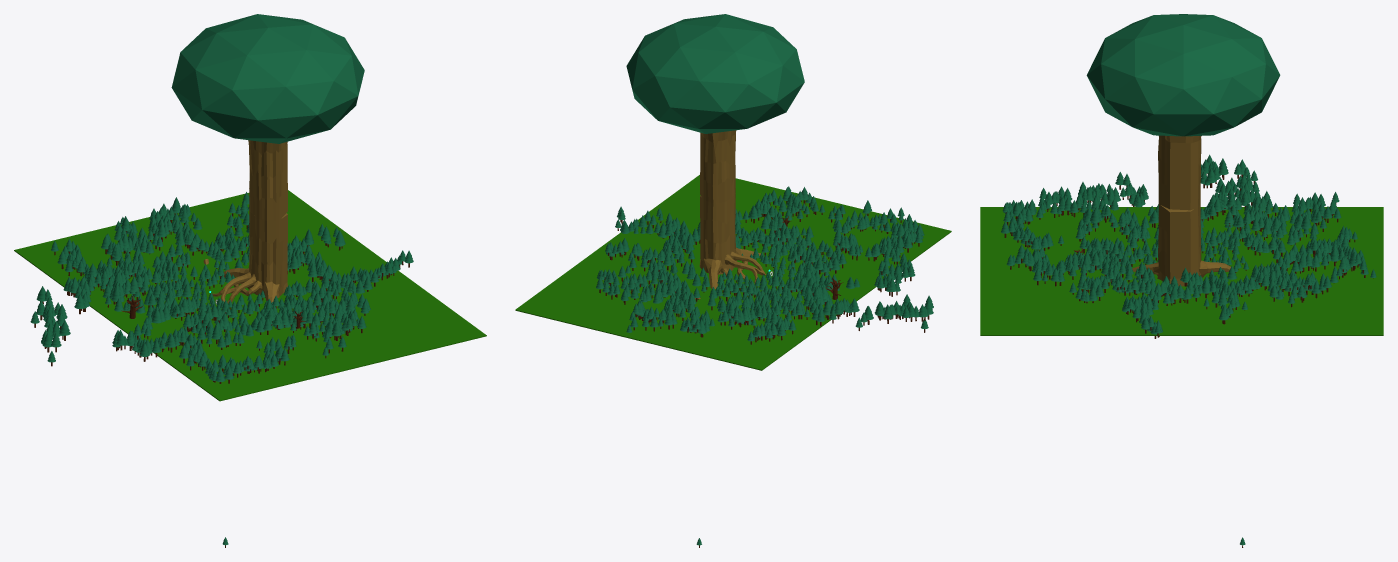
The model's file is  rootsMockup_withBackground.fbx.
3 renders of one model, left to right at view 1: azimuth 30°, elevation 25°; view 2: azimuth 150°, elevation 25°; view 3: azimuth 270°, elevation 25°, orthographic. The views are drawn at different scales.
Visible parts, largest first — view 1: floor, Icosphere, worldTree.001, worldTree; view 2: floor, Icosphere, worldTree.001, worldTree; view 3: floor, Icosphere, worldTree.001, worldTree.
Boxes of the visible parts, left/top/right/bottom form: floor: left=14, top=190, right=486, bottom=401; Icosphere: left=171, top=14, right=364, bottom=143; worldTree.001: left=248, top=140, right=287, bottom=221; worldTree: left=247, top=211, right=287, bottom=297; floor: left=515, top=175, right=951, bottom=370; Icosphere: left=626, top=14, right=804, bottom=133; worldTree.001: left=700, top=130, right=736, bottom=205; worldTree: left=699, top=192, right=736, bottom=274; floor: left=980, top=207, right=1383, bottom=335; Icosphere: left=1086, top=14, right=1280, bottom=136; worldTree.001: left=1158, top=135, right=1201, bottom=210; worldTree: left=1157, top=202, right=1201, bottom=286.
Bounding box in the file's own units: 79918 × 115688 × 80000.
